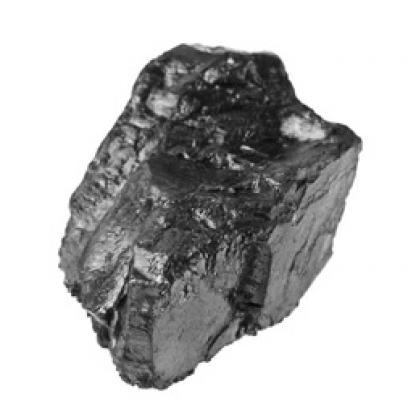Sedimentary_coal: (49, 18, 362, 391)
